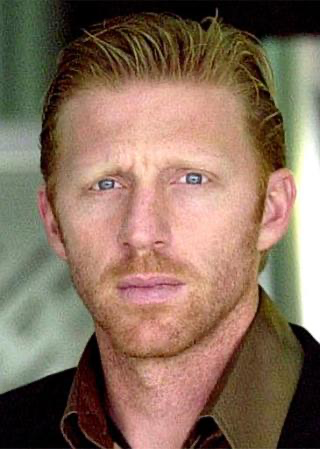Face: (48, 132, 255, 356)
